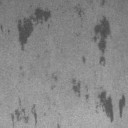red iron: (18, 7, 52, 51), (94, 90, 126, 124), (94, 14, 112, 67), (10, 96, 38, 128), (72, 78, 89, 102), (99, 0, 106, 7), (51, 73, 58, 80), (82, 56, 86, 64), (0, 25, 3, 32), (56, 123, 60, 128)
